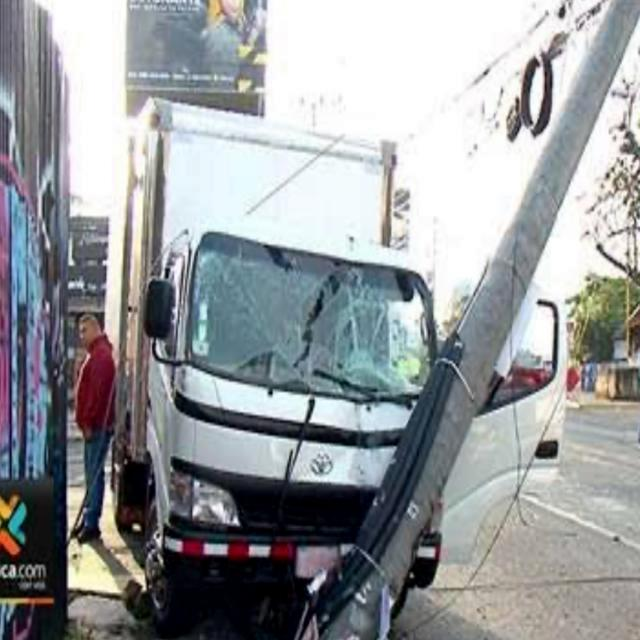Broken Pole: (298, 0, 640, 637)
